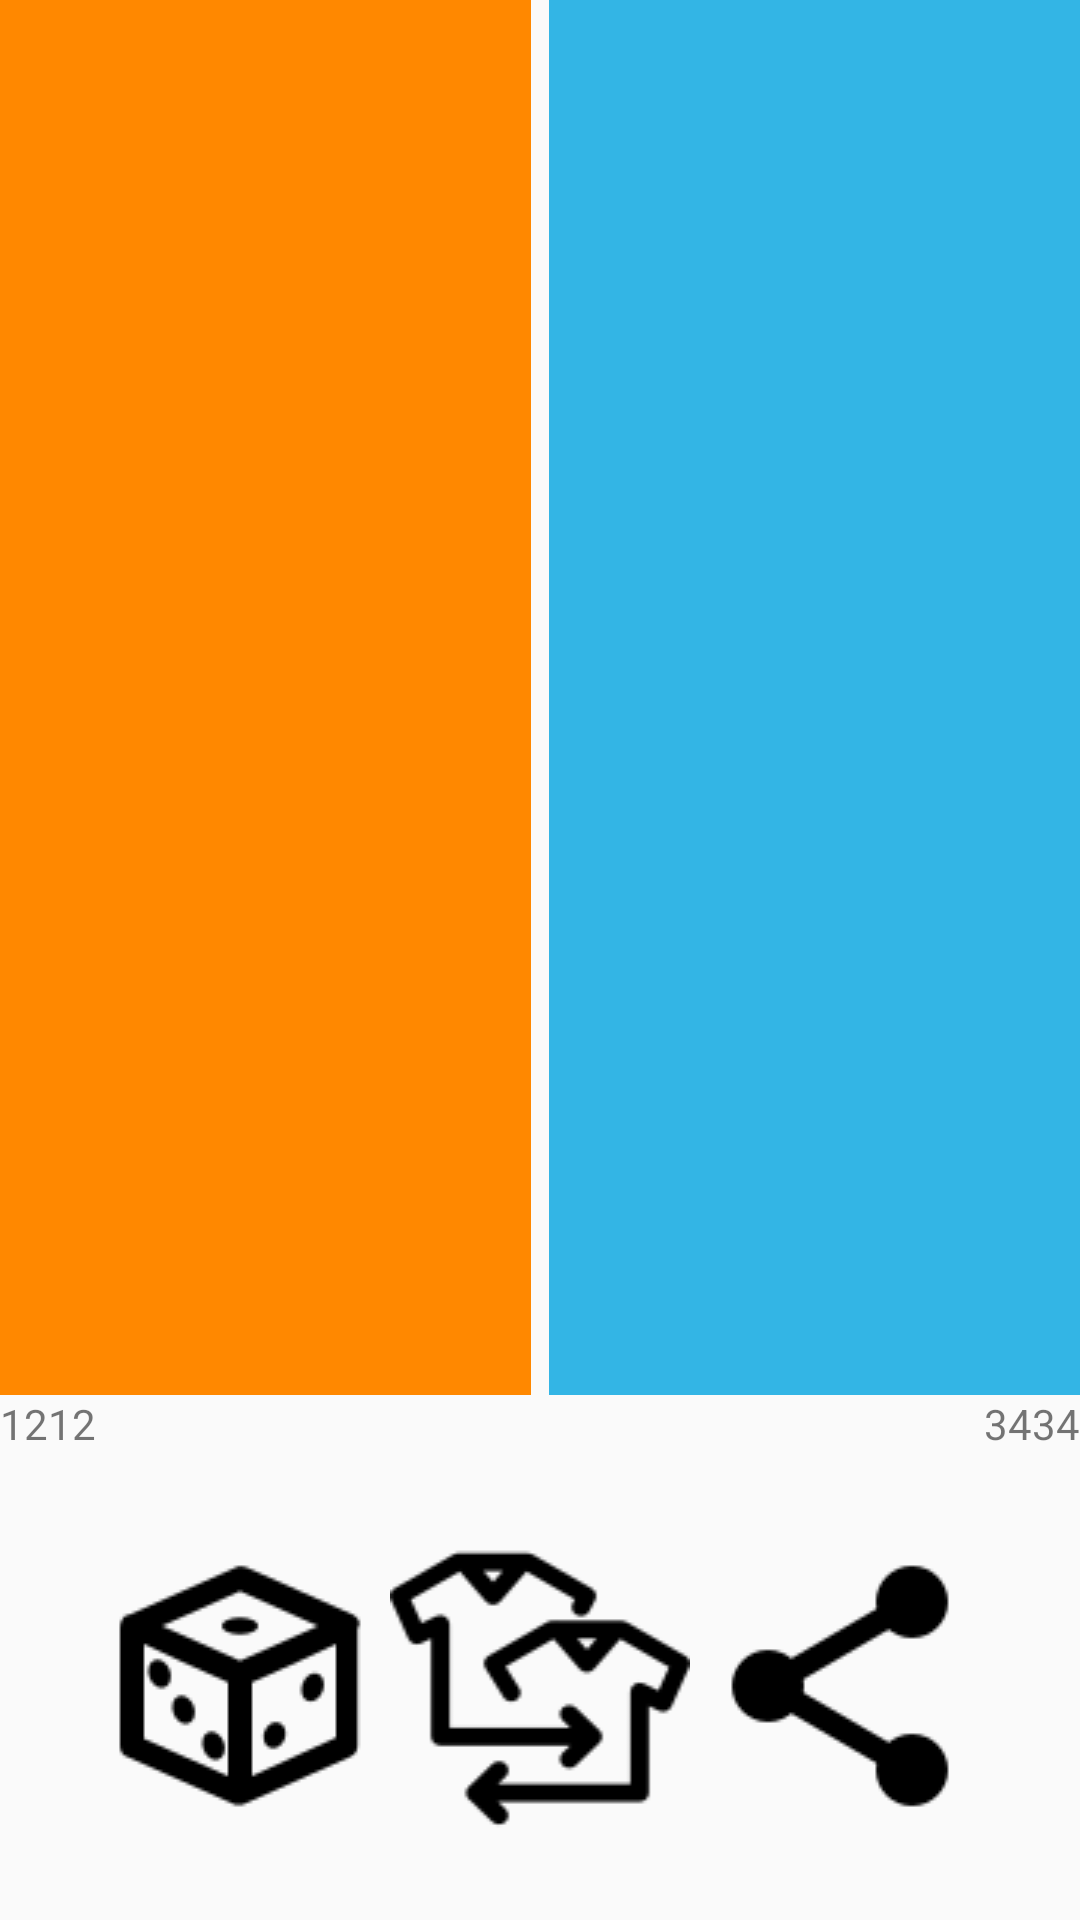

Locate icon controls on the screen. Image size 1080x1920, boxes as (left=x1, top=y1, right=x2, bottom=y2).
move toggle: (left=390, top=1551, right=690, bottom=1825)
send: (left=731, top=1565, right=949, bottom=1807)
shuffle: (left=119, top=1565, right=361, bottom=1807)
